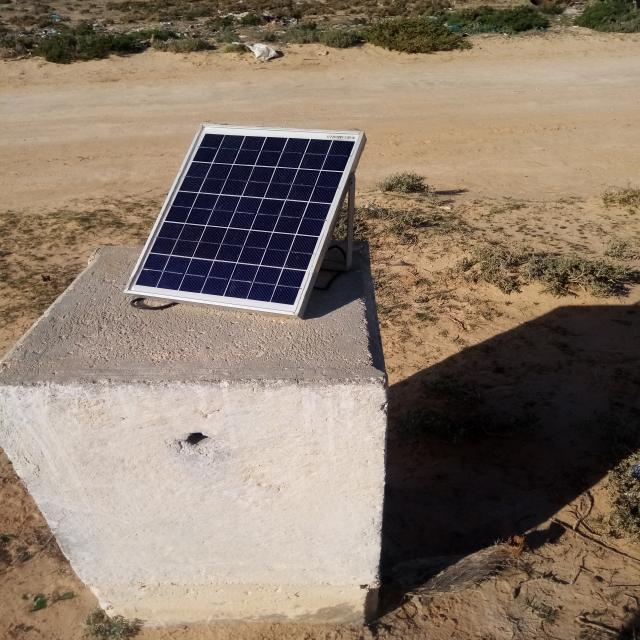no faulty: (126, 125, 363, 314)
